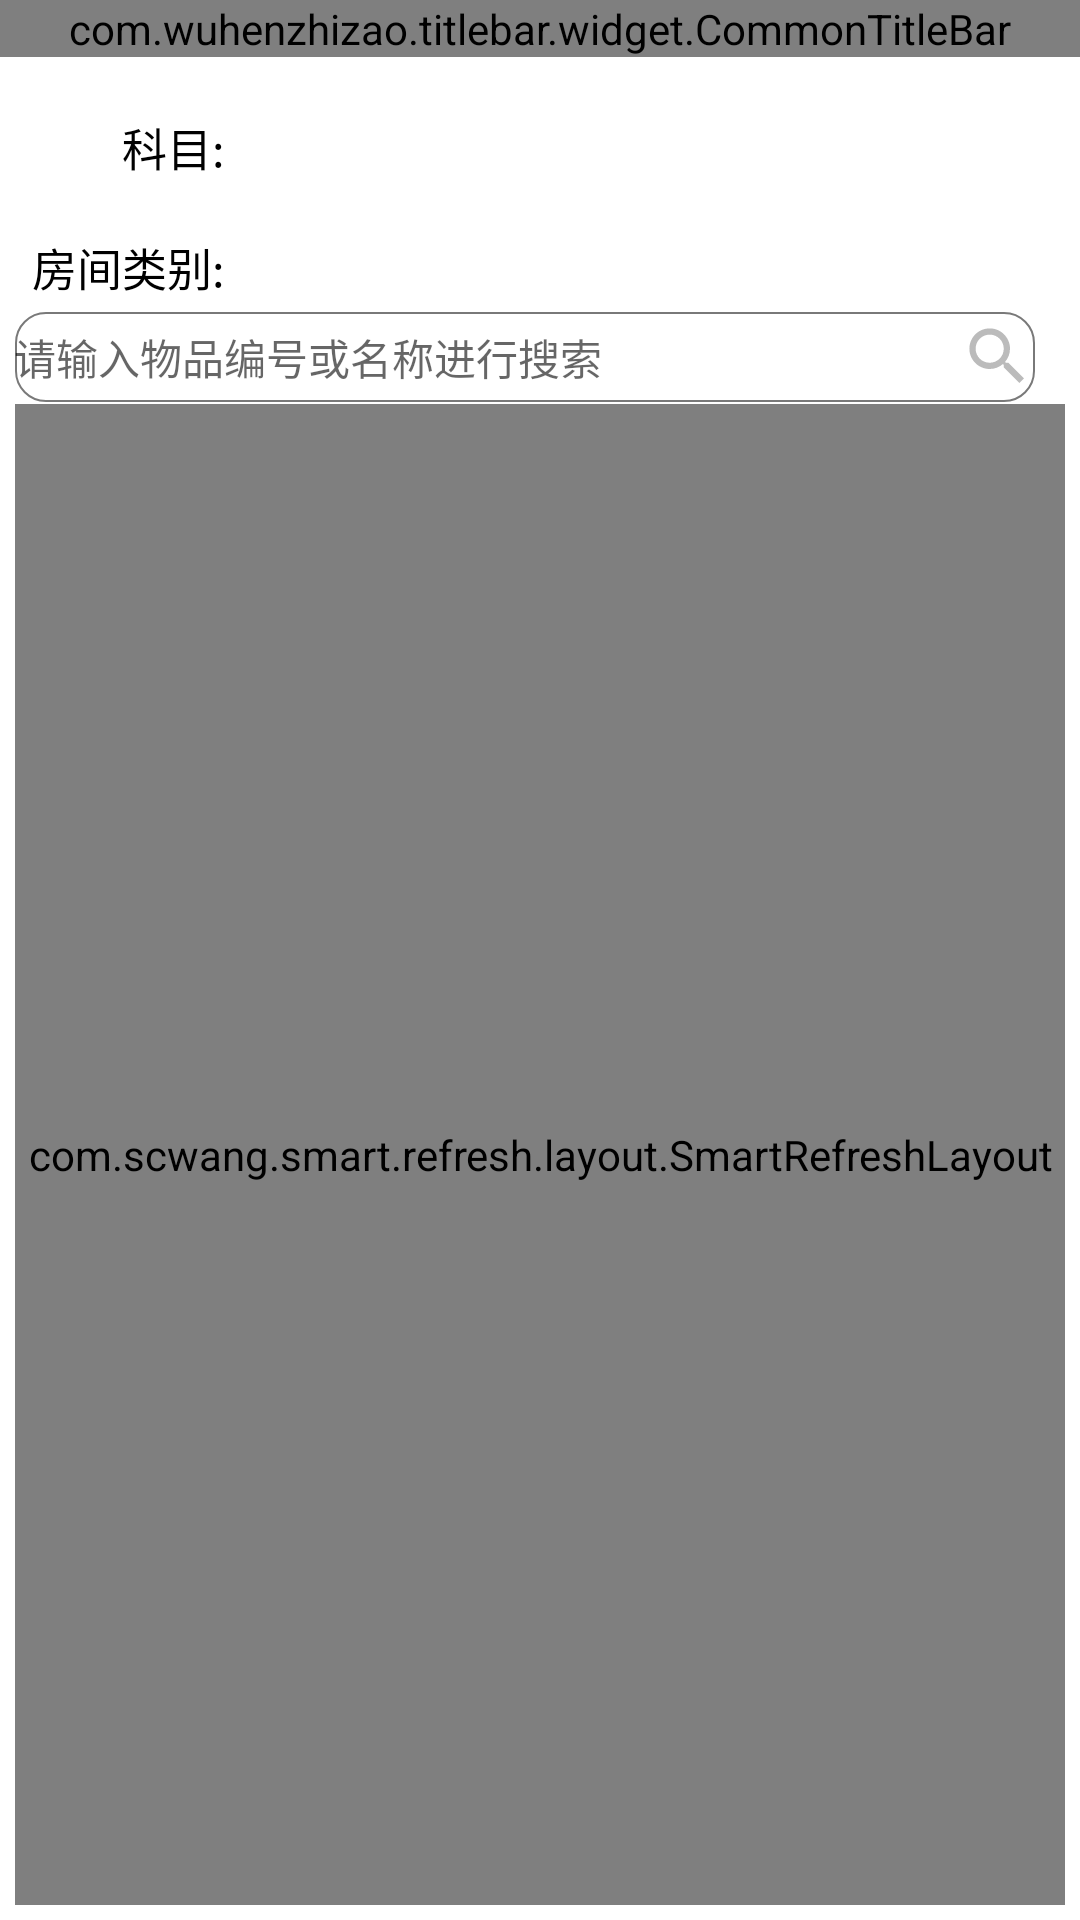

Named icons in this screenshot (1080px×1920px) and their centers, (x,y):
search: (996,355)
